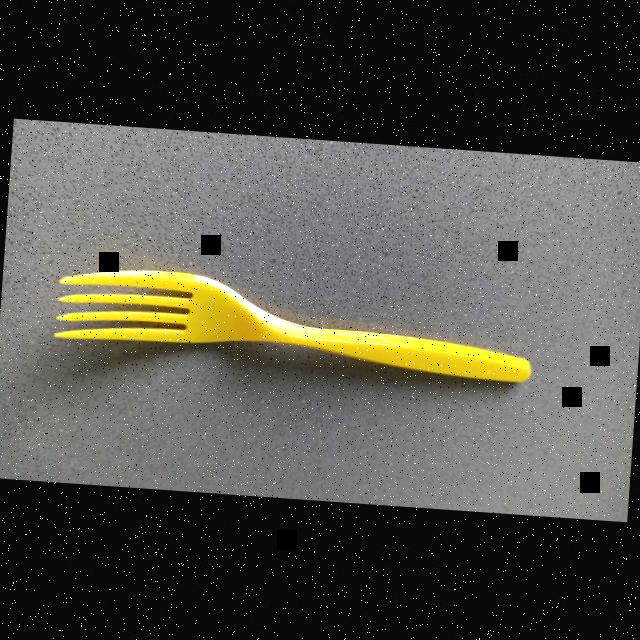plastic_cultery: (51, 261, 536, 385)
